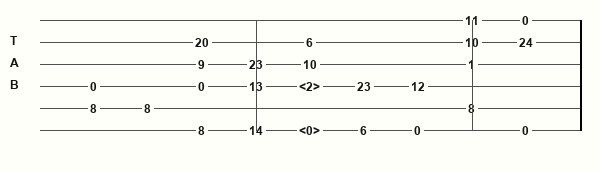0: (90, 80, 101, 93), (198, 80, 209, 93), (414, 124, 425, 137), (522, 14, 533, 27), (522, 124, 533, 137)
1: (468, 58, 479, 71)
10: (303, 58, 321, 71), (465, 36, 483, 49)
11: (465, 14, 483, 27)
12: (411, 80, 429, 93)
13: (249, 80, 267, 93)
14: (249, 124, 267, 137)
20: (195, 36, 213, 49)
23: (249, 58, 267, 71), (357, 80, 375, 93)
24: (519, 36, 537, 49)
6: (306, 36, 317, 49), (360, 124, 371, 137)
8: (90, 102, 101, 115), (144, 102, 155, 115), (198, 124, 209, 137), (468, 102, 479, 115)
9: (198, 58, 209, 71)
harmonic: (299, 124, 324, 137), (299, 80, 324, 93)
